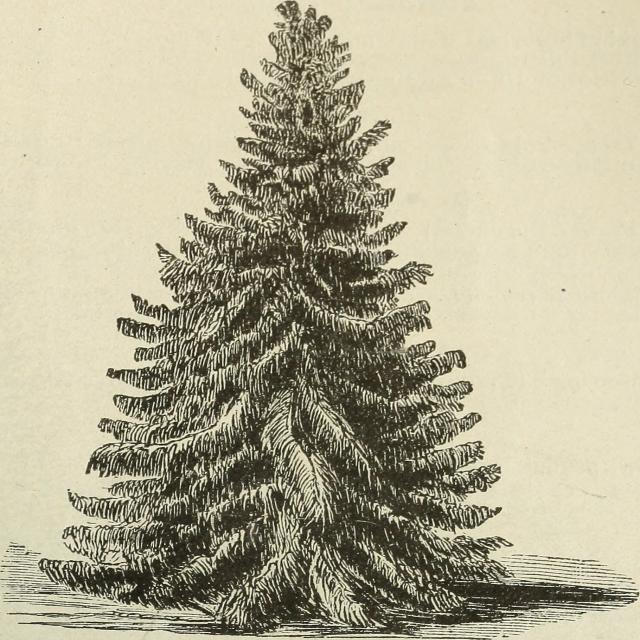Christmas-tree: (81, 0, 550, 640)
